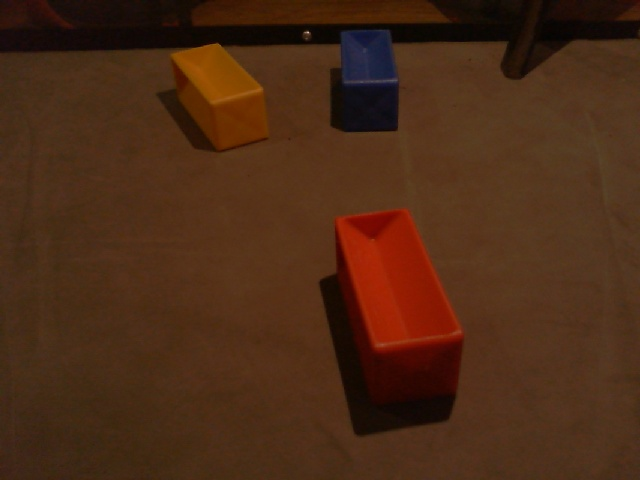BlueSample: (337, 29, 400, 134)
RedSample: (332, 207, 464, 406)
YellowSample: (169, 40, 269, 153)
